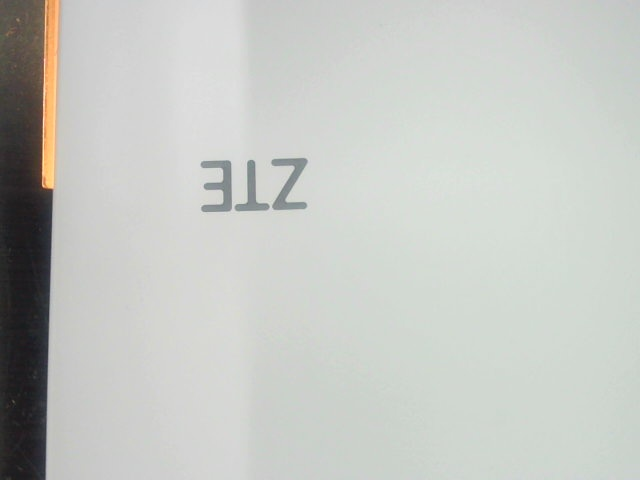AO_ZTESmall: (194, 142, 317, 223)
